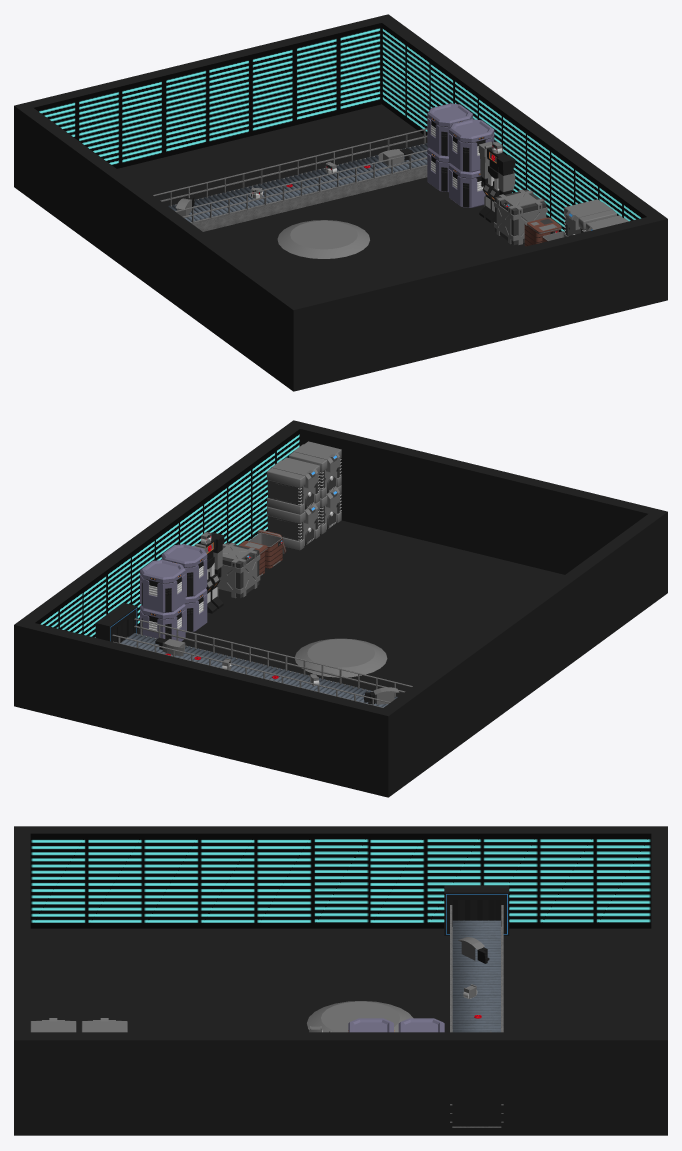
File: lab3-4n.glb
3 views of the same model, one above another, from view 1: azimuth 30°, elevation 25°; view 2: azimuth 150°, elevation 25°; view 3: azimuth 270°, elevation 25° (orthographic). The views are drawn at different scales.
Visible parts, largest first — view 1: Object_467, Object_467.001, Cube, Cylinder, Object_301, Crate-4x4x4-2, Object_1207, Component#32.001, Component#32.008, Component#32.002, Component#72.014, Component#32.000 (+1 smaller); view 2: Object_467, Object_467.001, Cube, Object_301, Cylinder, Component#72.014, Component#32.008, Crate-4x4x4-2, Component#72.001, Component#72.002, Component#32.001, Object_1207 (+5 smaller); view 3: Object_467, Object_467.001, Cylinder, Object_1198.001, Object_301, Cube, Component#32.008, Component#32.001, Component#72.014, Component#72.002, Object_1207.002.
Part boxes in pixels (left/top/right/bottom): Object_467: left=14, top=14, right=667, bottom=391; Object_467.001: left=34, top=23, right=646, bottom=231; Cube: left=153, top=128, right=427, bottom=231; Cylinder: left=168, top=143, right=428, bottom=222; Object_301: left=277, top=220, right=369, bottom=258; Crate-4x4x4-2: left=494, top=189, right=547, bottom=244; Object_1207: left=478, top=141, right=515, bottom=222; Component#32.001: left=449, top=119, right=494, bottom=172; Component#32.008: left=427, top=103, right=472, bottom=156; Component#32.002: left=449, top=163, right=486, bottom=207; Component#72.014: left=564, top=199, right=616, bottom=237; Component#32.000: left=427, top=147, right=449, bottom=192; Object_467: left=14, top=420, right=667, bottom=797; Object_467.001: left=35, top=429, right=299, bottom=637; Cube: left=112, top=618, right=412, bottom=707; Object_301: left=295, top=638, right=387, bottom=677; Cylinder: left=120, top=633, right=397, bottom=707; Component#72.014: left=267, top=457, right=319, bottom=514; Component#32.008: left=140, top=560, right=185, bottom=613; Crate-4x4x4-2: left=217, top=542, right=260, bottom=598; Component#72.001: left=267, top=501, right=319, bottom=550; Component#72.002: left=289, top=441, right=341, bottom=498; Component#32.001: left=161, top=544, right=207, bottom=597; Object_1207: left=193, top=531, right=224, bottom=613; Object_467: left=14, top=826, right=667, bottom=1135; Object_467.001: left=30, top=833, right=651, bottom=928; Cylinder: left=452, top=920, right=500, bottom=1032; Object_1198.001: left=444, top=885, right=509, bottom=935; Object_301: left=307, top=1001, right=413, bottom=1032; Cube: left=450, top=905, right=503, bottom=1127; Component#32.008: left=398, top=1018, right=444, bottom=1032; Component#32.001: left=348, top=1018, right=394, bottom=1032; Component#72.014: left=81, top=1018, right=127, bottom=1032; Component#72.002: left=30, top=1018, right=76, bottom=1032; Object_1207.002: left=458, top=937, right=489, bottom=963.
Size of the model in its own units: 13.48 by 2.79 by 17.35.
14 materials, 4 textured.
